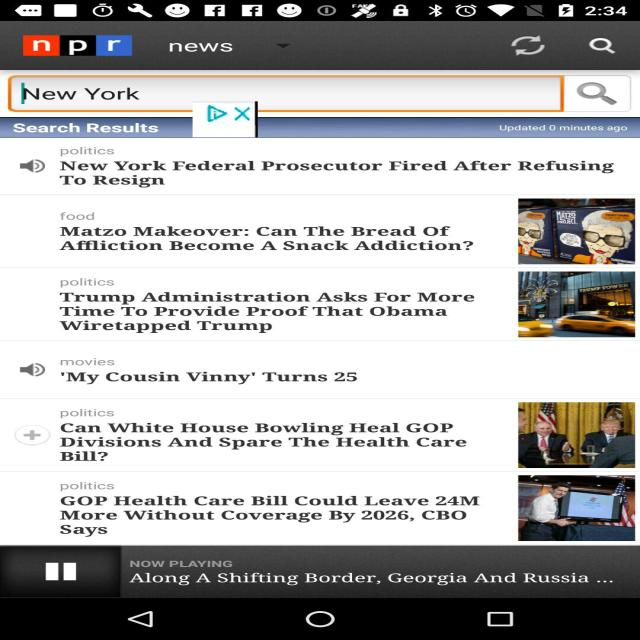sneaking: (192, 101, 258, 138)
